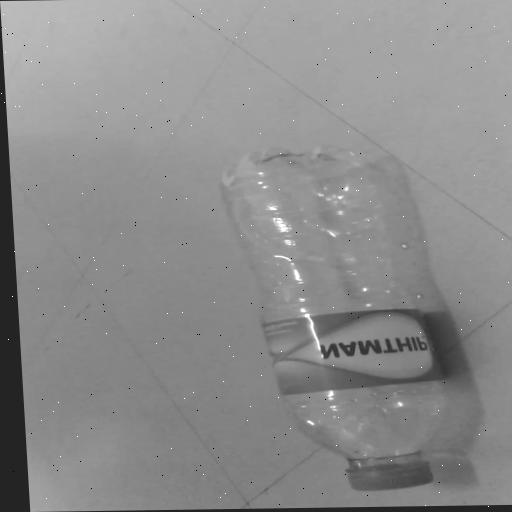bottle: (183, 119, 486, 509)
